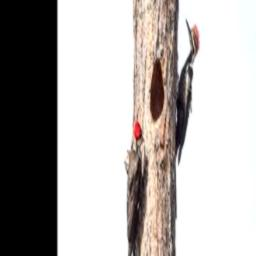Woodpecker: (175, 16, 200, 165), (126, 121, 145, 256)
